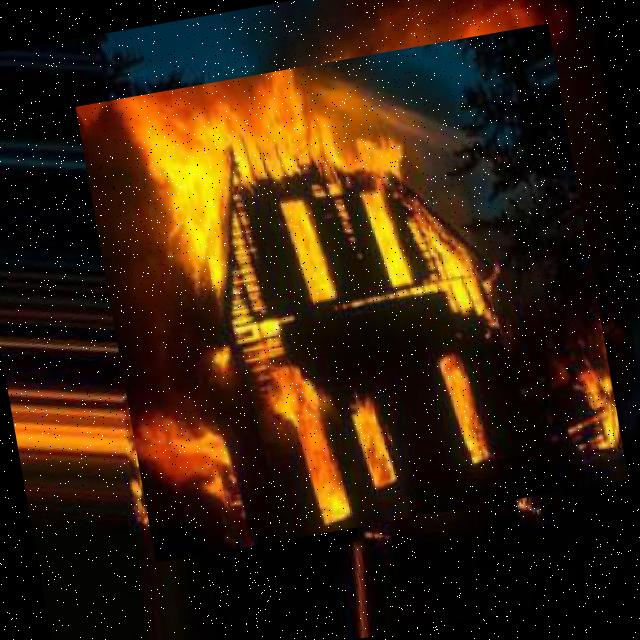fire: (75, 23, 628, 562)
